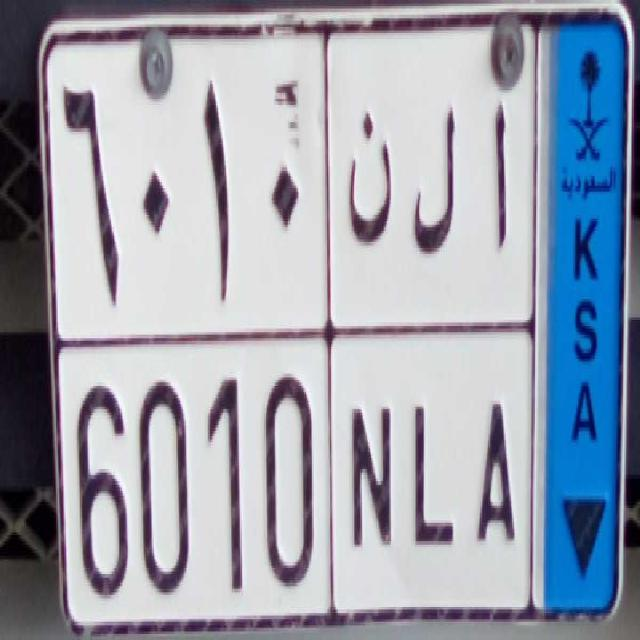license_plate: (57, 338, 537, 631)
